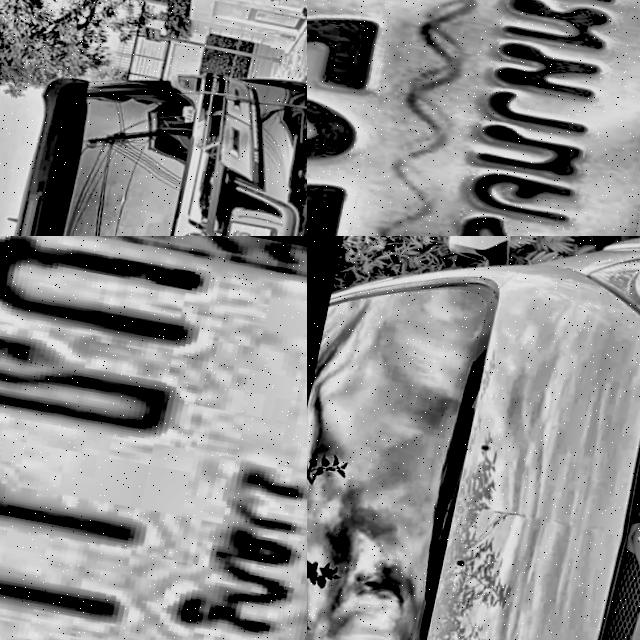license-plate: (0, 236, 307, 640), (307, 0, 640, 236), (213, 219, 279, 236)
